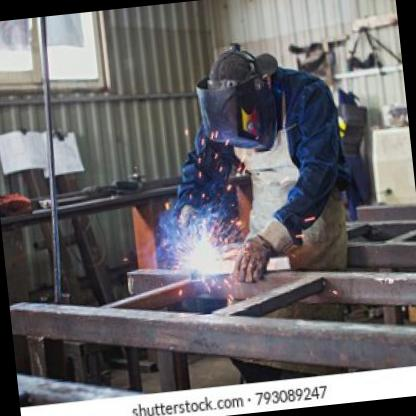Gloves: (227, 216, 297, 284)
